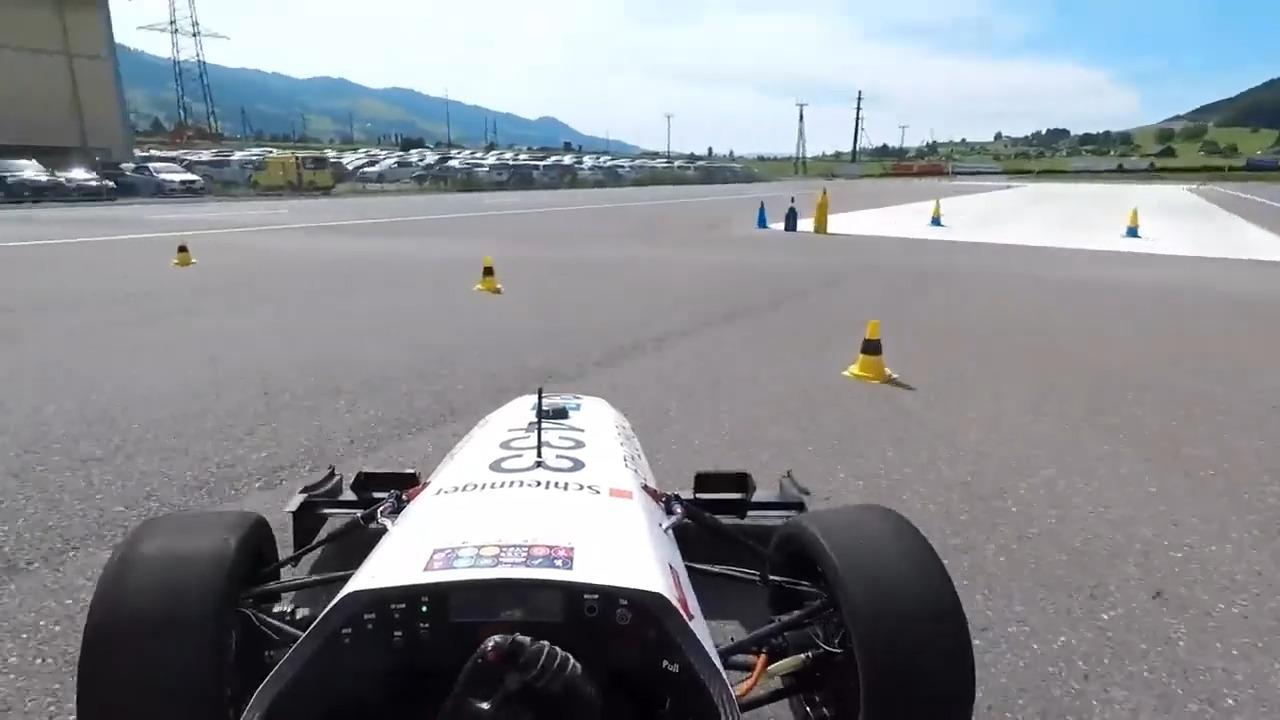yellow_cone: (844, 318, 898, 386), (472, 254, 506, 294), (170, 234, 200, 268)
